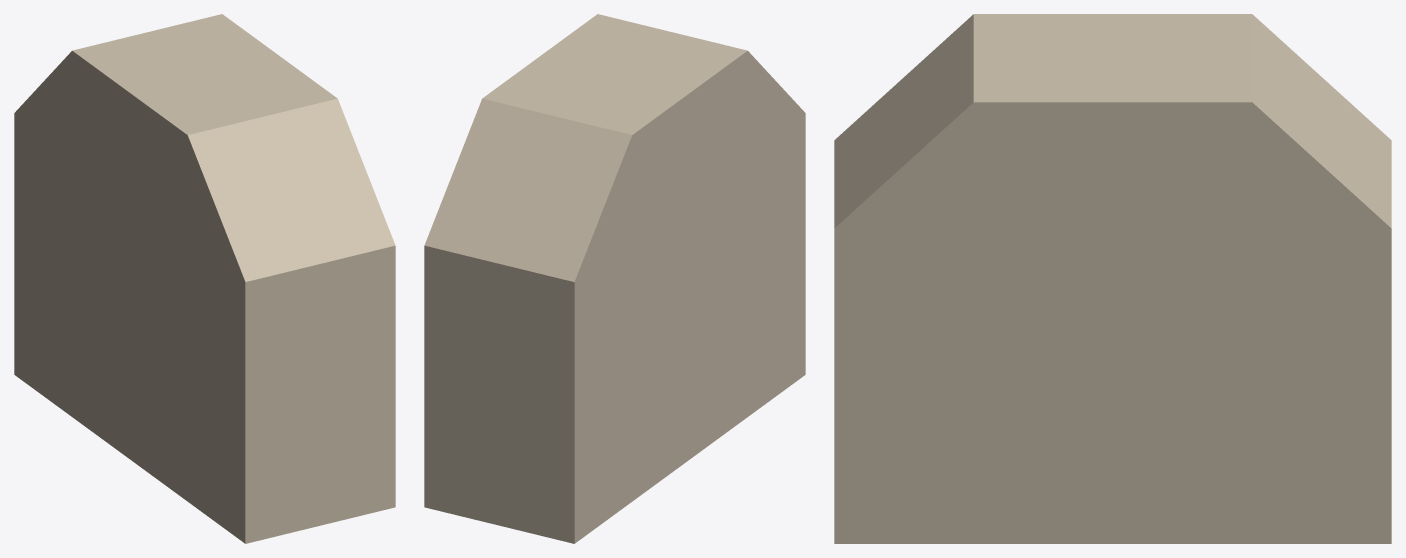
File: Rail_Arret.FBX
3 renders of one model, left to right at view 1: azimuth 30°, elevation 25°; view 2: azimuth 150°, elevation 25°; view 3: azimuth 270°, elevation 25°, orthographic. The views are drawn at different scales.
Parts seen in each view (by area): view 1: Box436; view 2: Box436; view 3: Box436.
Boxes of the visible parts, left/top/right/bottom form: Box436: left=14, top=14, right=395, bottom=543; Box436: left=424, top=14, right=805, bottom=543; Box436: left=834, top=14, right=1391, bottom=543.
Bounding box in the file's own units: 11.81 × 27.56 × 31.5.
